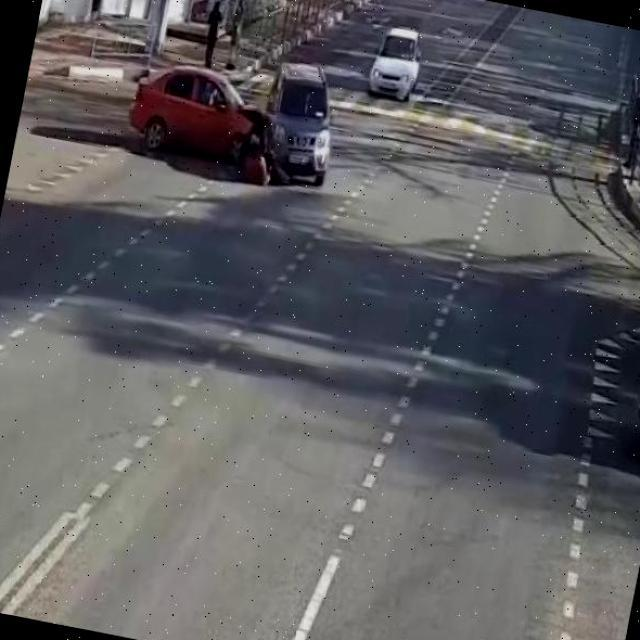accident: (117, 25, 359, 203)
